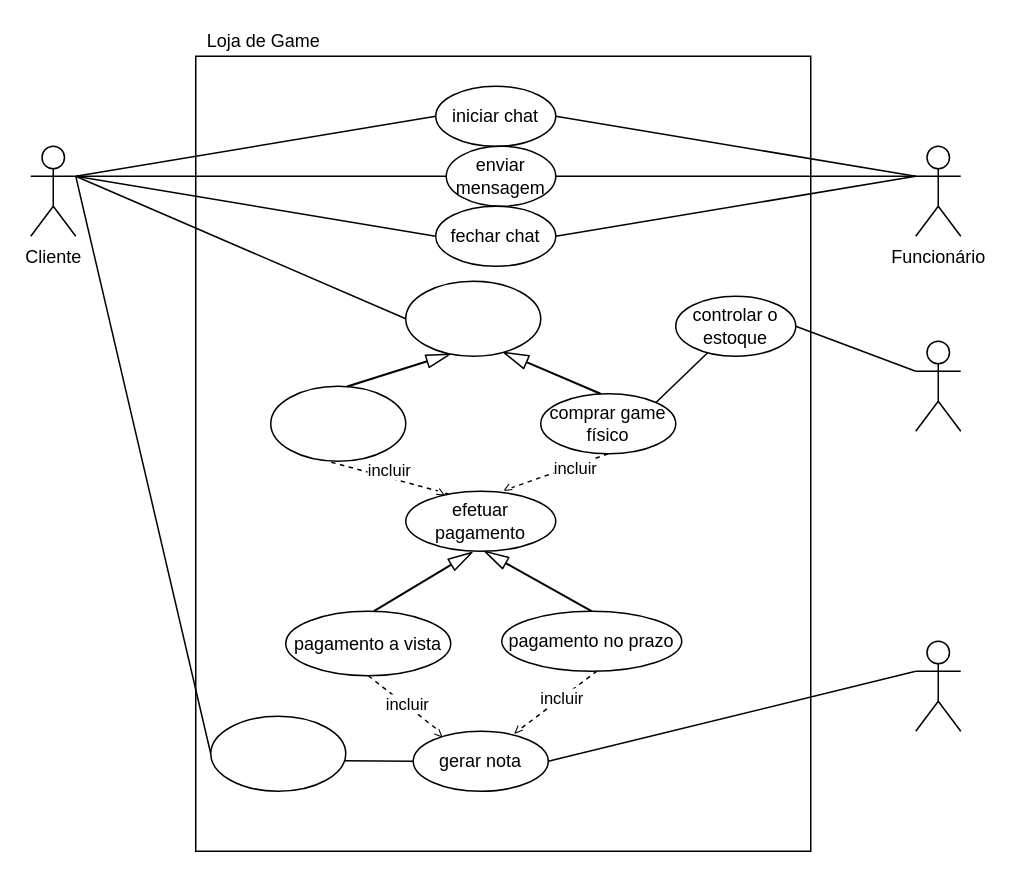
This 1011x878 diagram has some shape labels left out. The centre of each missing label's shape, as x and y in pixels:
Comprar game: (472,318)
download game: (337,423)
Gerente: (937,385)
receber nota: (277,753)
Sistema: (937,685)
